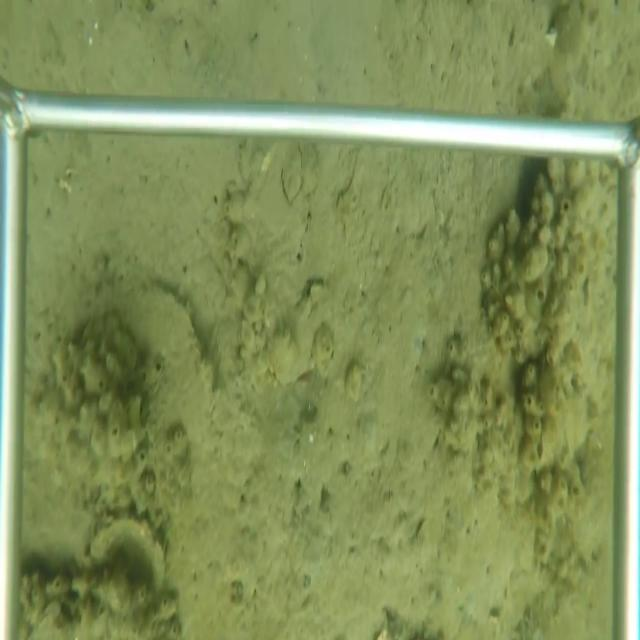Oyster-Indeterminate: (120, 279, 223, 517), (86, 510, 166, 585)
